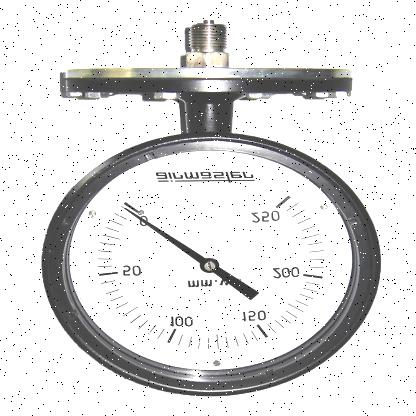needle: (123, 207, 207, 264)
